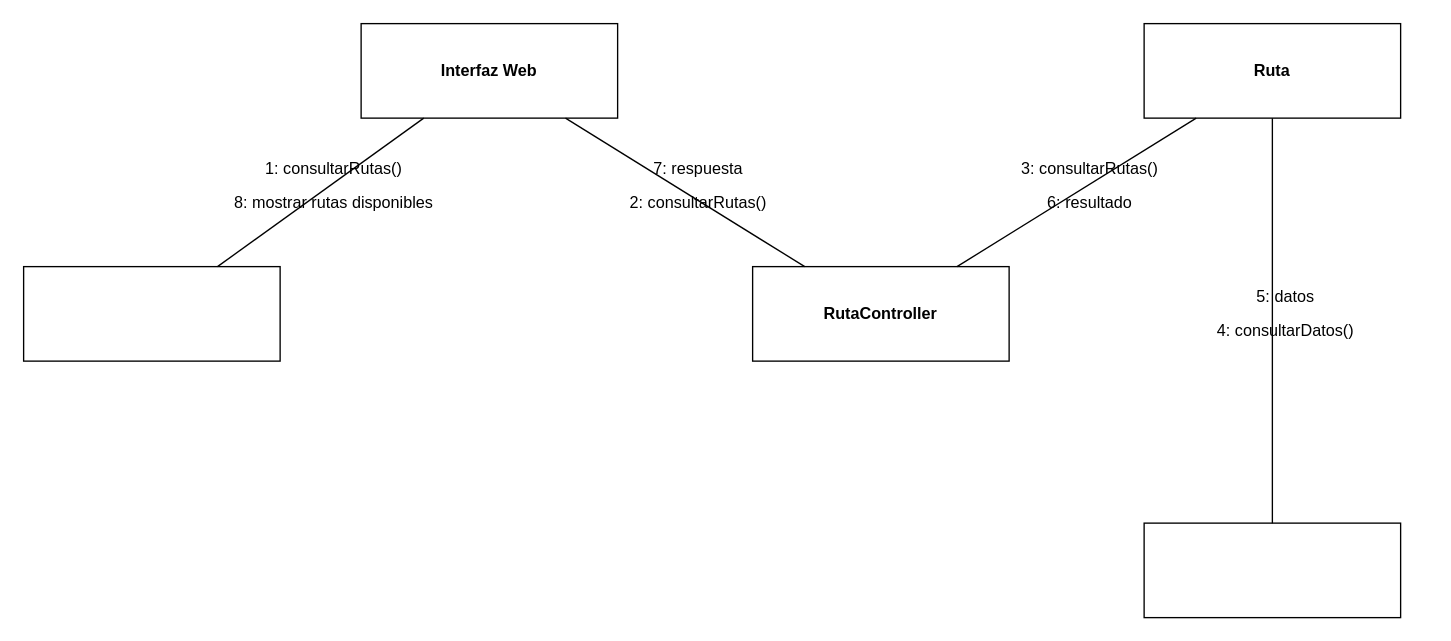
This 1451x641 diagram has some shape labels left out. Each missing label, with the box of its shape:
Supabase/PostgreSQL: (1143, 522, 1401, 618)
Usuario Final: (22, 265, 280, 361)
